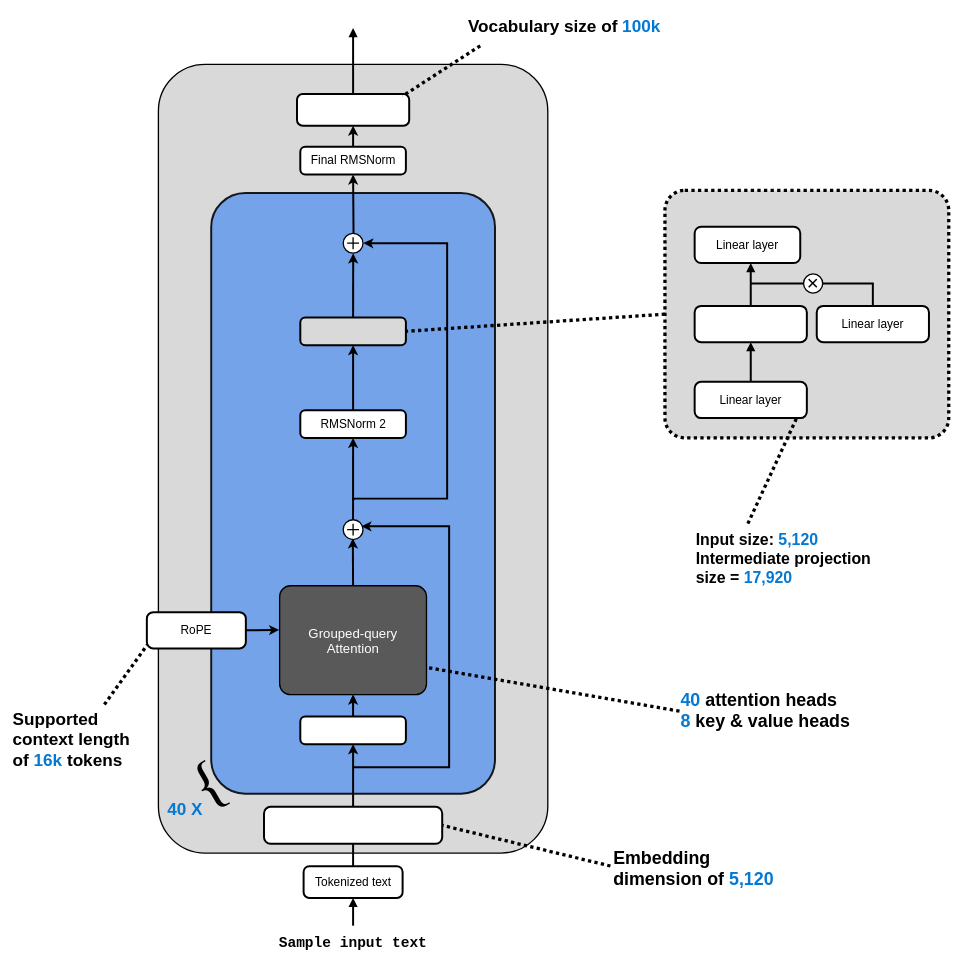
Image size: 962x970. Some labels were removed from this diagram. The shapes that lost their labels are listed below. From the top down, each one's centre as x and y in pixels, then its label:
[353,109]: Linear output layer
[353,331]: Feed forward
[750,324]: SiLU activation
[353,730]: RMSNorm 1
[353,825]: Token embedding layer
